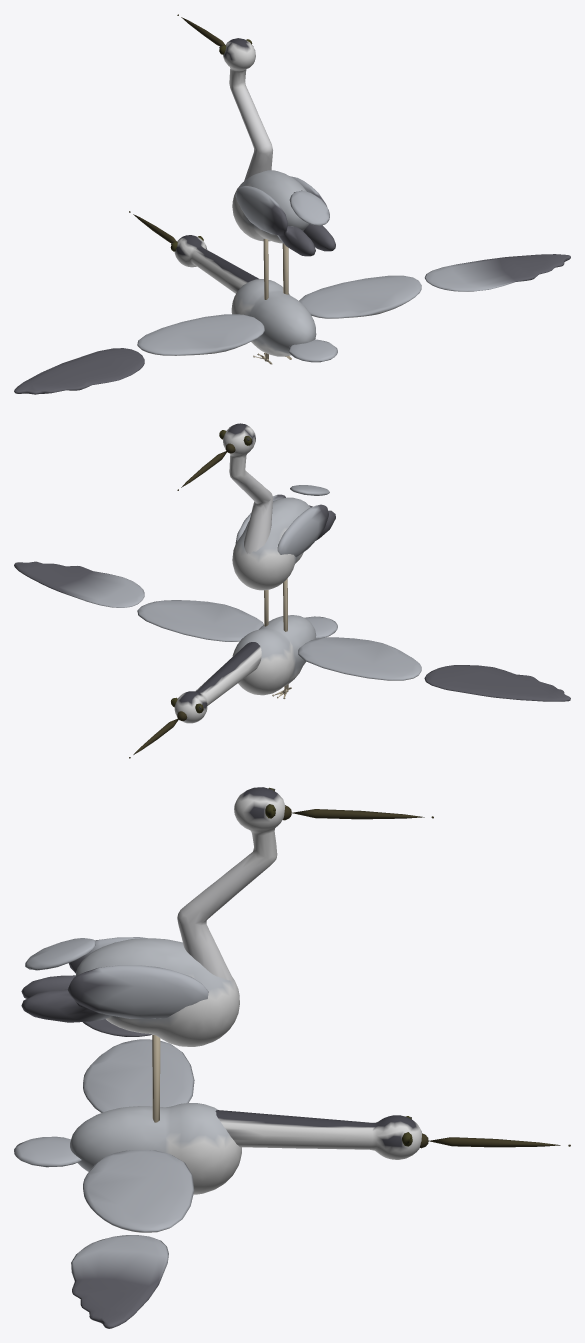
Rendered from heron_parts.glb.
3 views of the same model, one above another, from view 1: azimuth 30°, elevation 25°; view 2: azimuth 150°, elevation 25°; view 3: azimuth 270°, elevation 25° (orthographic). The views are drawn at different scales.
Parts seen in each view (by area): view 1: BODY.001, WING_L, WING_R, WINGTIP_R__WING_R, WINGTIP_L__WING_L, HEAD, BODY1, BODY, HEAD.001, TAIL, TAIL.001, BODY3; view 2: WING_L, BODY.001, WING_R, BODY, WINGTIP_L__WING_L, WINGTIP_R__WING_R, HEAD, HEAD.001, BODY1, TAIL.001; view 3: BODY.001, BODY3, WING_R, BODY, WINGTIP_R__WING_R, HEAD.001, HEAD, WING_L, TAIL.001, TAIL, BODY1, HEAD2__ (+2 smaller).
Boxes of the visible parts, x1,y1,x2,y2 form: BODY.001: (231,279,316,356); WING_L: (137,314,264,355); WING_R: (299,275,421,318); WINGTIP_R__WING_R: (424,254,570,291); WINGTIP_L__WING_L: (14,348,144,394); HEAD: (223,38,272,181); BODY1: (235,186,315,256); BODY: (232,170,308,243); HEAD.001: (174,235,259,293); TAIL: (289,190,329,225); TAIL.001: (288,339,337,362); BODY3: (290,176,335,251); WING_L: (298,637,421,680); BODY.001: (232,615,316,695); WING_R: (137,600,263,641); BODY: (232,497,310,590); WINGTIP_L__WING_L: (424,665,570,701); WINGTIP_R__WING_R: (14,561,144,607); HEAD: (223,423,272,553); HEAD.001: (174,642,261,723); BODY1: (277,504,335,557); TAIL.001: (305,616,337,638); BODY.001: (70,1103,241,1194); BODY3: (21,965,208,1022); WING_R: (83,1150,194,1232); BODY: (75,938,239,1046); WINGTIP_R__WING_R: (71,1235,168,1328); HEAD.001: (215,1110,421,1159); HEAD: (177,787,285,981); WING_L: (83,1039,194,1112); TAIL.001: (14,1136,81,1167); TAIL: (25,938,95,970); BODY1: (21,937,147,998); HEAD2__: (283,805,433,820).
Size of the model in its own units: 1.65 by 0.8313 by 1.02.
